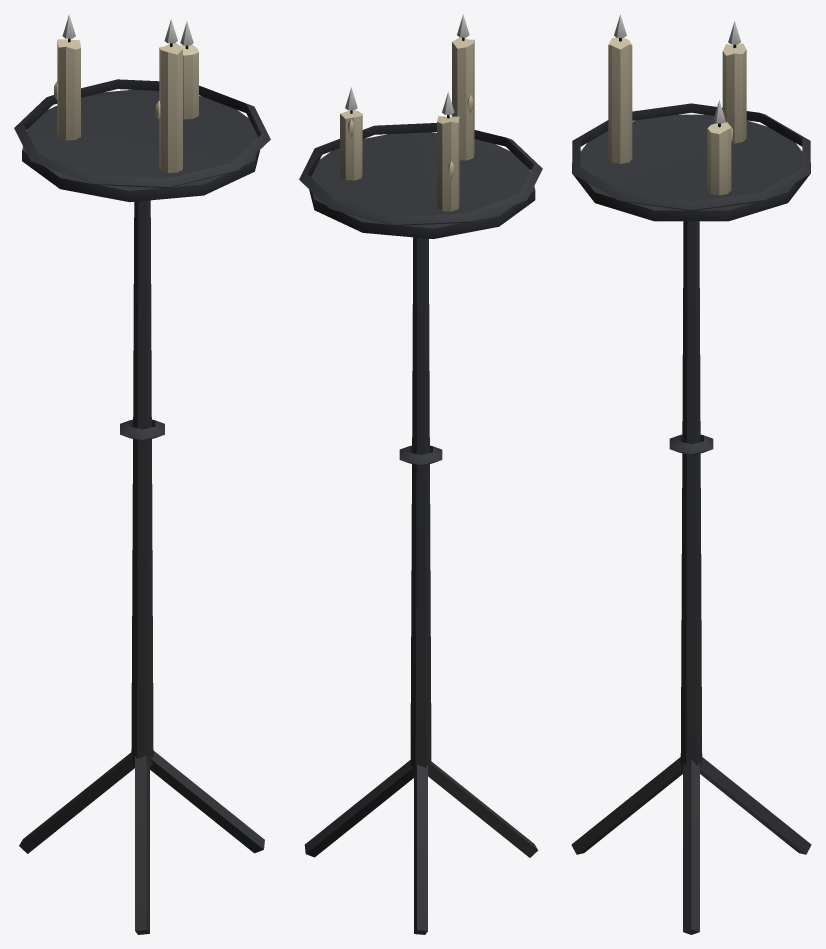
File: ph_int_candelabrum.glb
3 views of the same model, side by side, from view 1: azimuth 30°, elevation 25°; view 2: azimuth 150°, elevation 25°; view 3: azimuth 270°, elevation 25° (orthographic). The views are drawn at different scales.
Parts seen in each view (by area): view 1: ph_int_candelabrum; view 2: ph_int_candelabrum; view 3: ph_int_candelabrum.
Boxes of the visible parts, x1,y1,x2,y2 form: ph_int_candelabrum: (14, 14, 270, 934); ph_int_candelabrum: (299, 14, 542, 934); ph_int_candelabrum: (571, 14, 811, 934).
Bounding box in the file's own units: 0.4399 × 1.6 × 0.4029.
